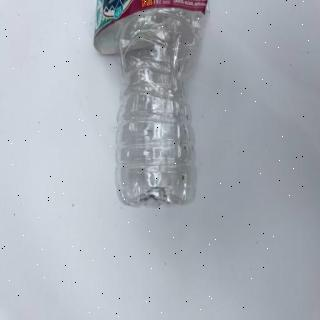Plastic-bottle: (94, 1, 212, 211)
